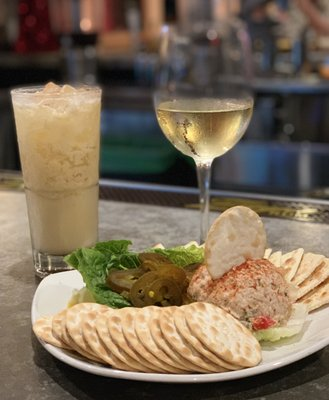pizza: (12, 81, 102, 277)
soup: (185, 205, 298, 339)
